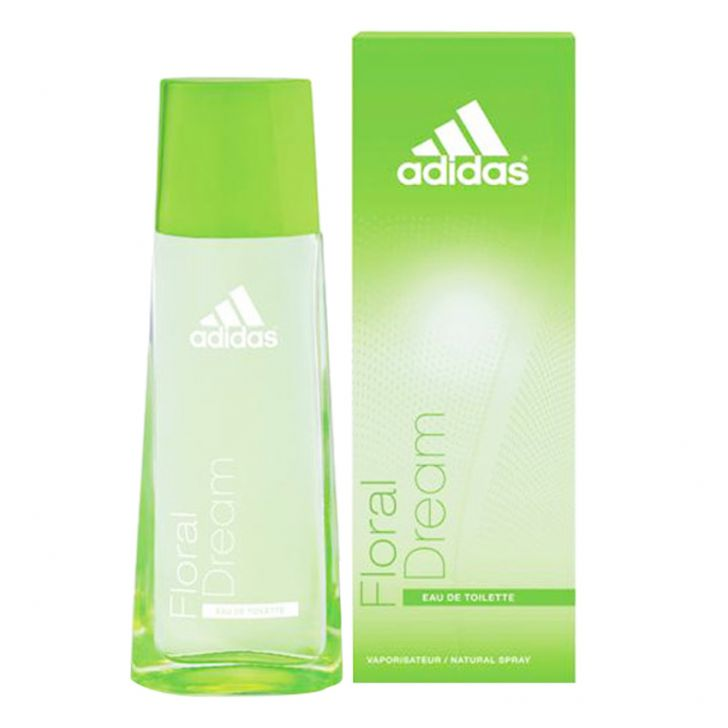Adidas: (376, 85, 556, 198), (165, 264, 302, 367)
